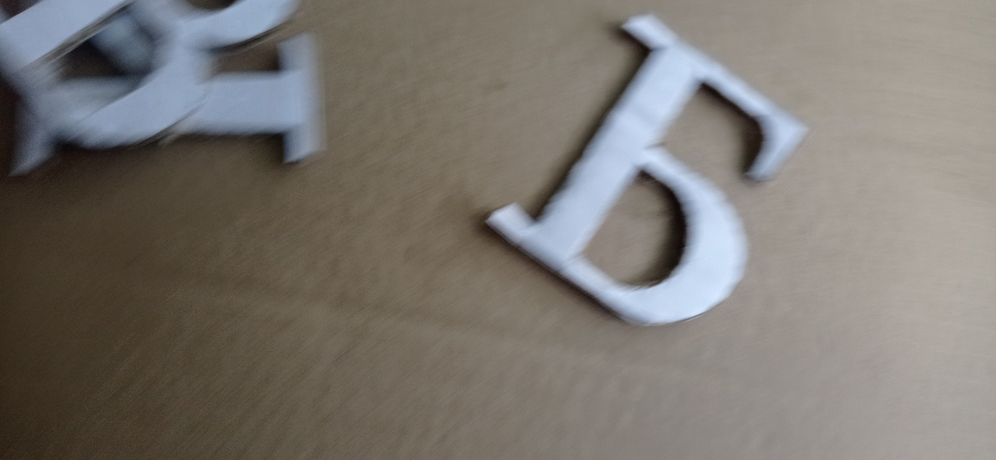b: (487, 11, 811, 329)
